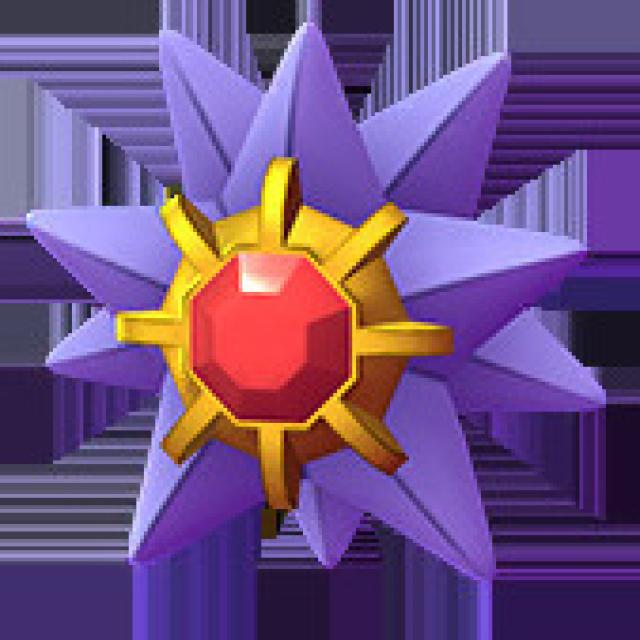Starmie: (20, 7, 596, 626)
